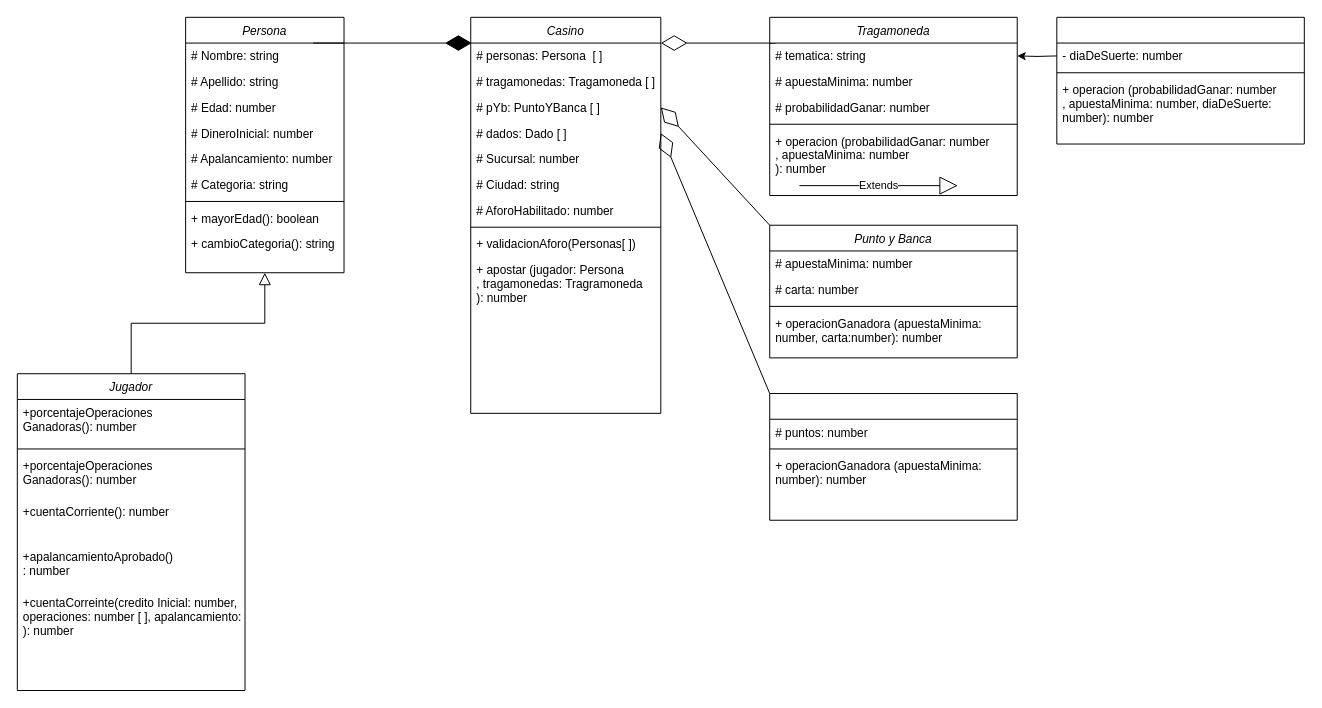
Some shapes in this 1322 by 708 pixel diagram are drawn without their labels. The box of each missing label's shape, as (x1, y1, x2, y2) in pixels:
Dados: (769, 393, 1017, 520)
TragamonedaPoderoso: (1056, 16, 1304, 144)
